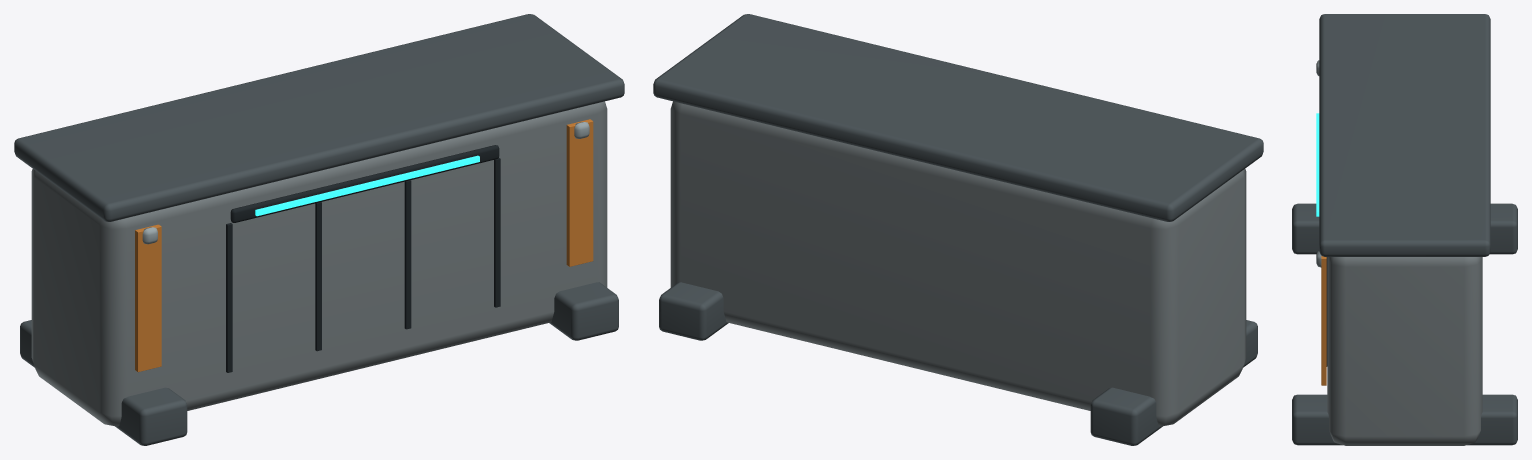
File: barricade.glb
3 views of the same model, side by side, from view 1: azimuth 30°, elevation 25°; view 2: azimuth 150°, elevation 25°; view 3: azimuth 270°, elevation 25° (orthographic). The views are drawn at different scales.
Parts seen in each view (by area): view 1: barricade; view 2: barricade; view 3: barricade.
Boxes of the visible parts, x1,y1,x2,y2 form: barricade: (14, 14, 624, 445); barricade: (653, 14, 1263, 445); barricade: (1292, 14, 1517, 445).
Bounding box in the file's own units: 3.5 × 1.52 × 1.45.
